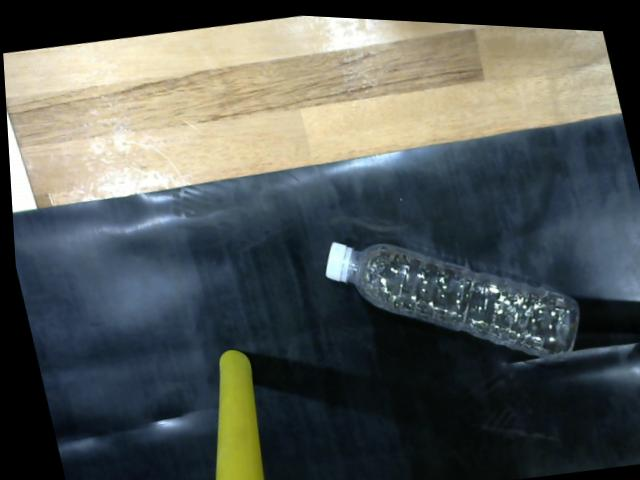bottle: (313, 231, 584, 362)
